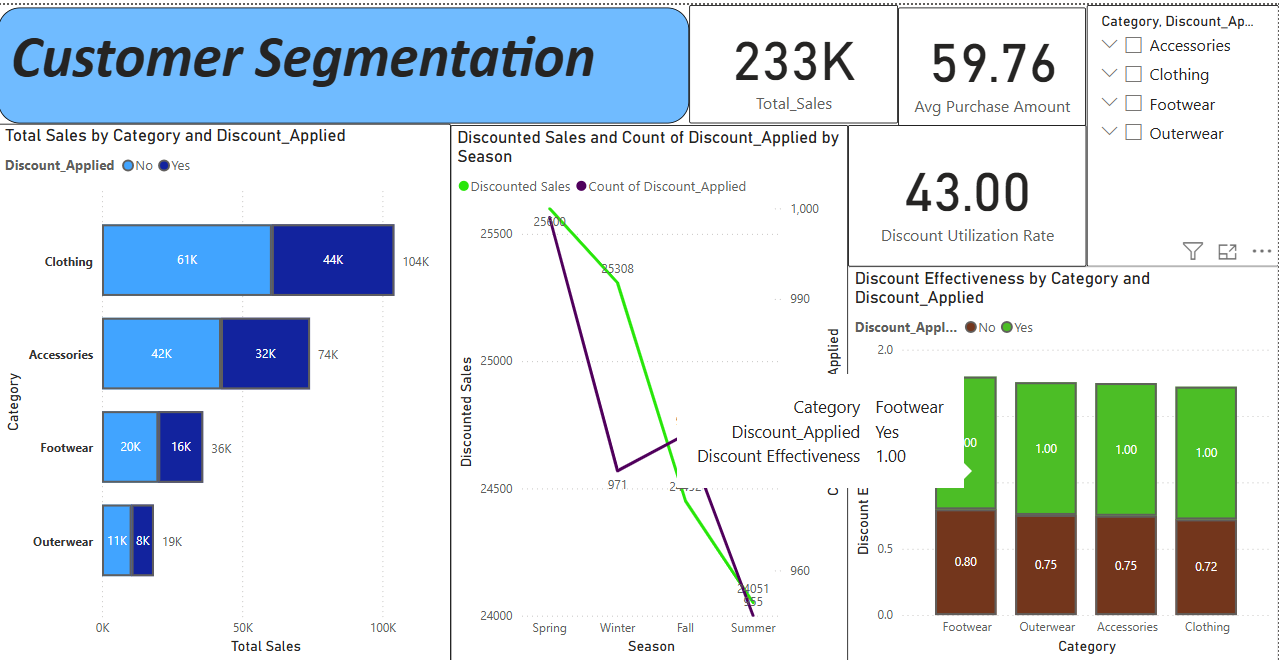

The page's visual inventory and layout, read from the dashboard file:
{"tool":"powerbi","page":{"name":"Page 1","canvas":[1280,720],"ordinal":0},"visuals":[{"type":"barChart","fields":{"Y":["customer segmentation.Total Sales"],"Category":["customer segmentation.Category"],"Series":["customer segmentation.Discount_Applied"]},"box":[0,118.6,452.4,538],"z":0},{"type":"lineChart","fields":{"Y":["customer segmentation.Discounted Sales"],"Category":["customer segmentation.Season"],"Y2":["CountNonNull(customer segmentation.Discount_Applied)"]},"box":[452.4,119.8,397.4,536.8],"z":1000},{"type":"slicer","fields":{"Values":["customer segmentation.Category","customer segmentation.Discount_Applied"]},"box":[1088.3,0,192,261.7],"z":2000},{"type":"columnChart","fields":{"Y":["customer segmentation.Discount Effectiveness"],"Category":["customer segmentation.Category"],"Series":["customer segmentation.Discount_Applied"]},"box":[849.9,261.7,430.4,395],"z":3000},{"type":"card","fields":{"Values":["customer segmentation.Total_Sales"]},"box":[690.9,0,209.1,118.6],"z":4000},{"type":"card","fields":{"Values":["customer segmentation.Avg Purchase Amount"]},"box":[900,2.4,188.3,118.6],"z":5000},{"type":"card","fields":{"Values":["customer segmentation.Discount Utilization Rate"]},"box":[850,120,238.8,141.2],"z":6000},{"type":"textbox","box":[0,2.4,690.9,116],"z":7000}]}

Visuals, with their boxes on the page's 1280x720 design canvas (x1, y1, x2, y2). These are canvas units, not pixel positions in the 1279x660 screenshot, which may show the page scaled, cropped or inside an application window:
barChart - customer segmentation.Total Sales x customer segmentation.Category: [left=0, top=119, right=452, bottom=657]
lineChart - customer segmentation.Discounted Sales x customer segmentation.Season: [left=452, top=120, right=850, bottom=657]
slicer - customer segmentation.Category x customer segmentation.Discount_Applied: [left=1088, top=0, right=1280, bottom=262]
columnChart - customer segmentation.Discount Effectiveness x customer segmentation.Category: [left=850, top=262, right=1280, bottom=657]
card - customer segmentation.Total_Sales: [left=691, top=0, right=900, bottom=119]
card - customer segmentation.Avg Purchase Amount: [left=900, top=2, right=1088, bottom=121]
card - customer segmentation.Discount Utilization Rate: [left=850, top=120, right=1089, bottom=261]
textbox: [left=0, top=2, right=691, bottom=118]
